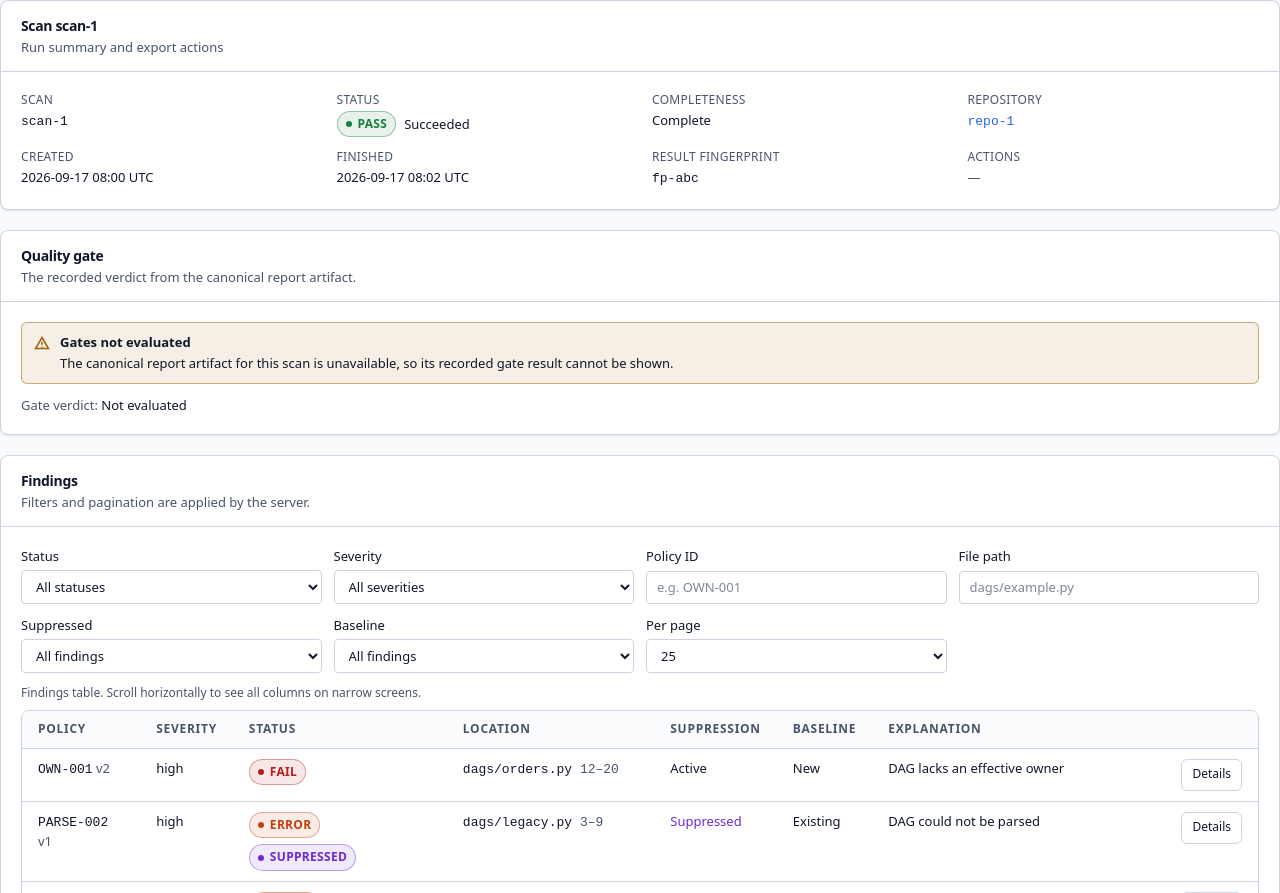
Scenario: ScanPage › keeps normalized findings and shows calm unavailable states when the artifact is pruned
The width and height of the screenshot is (1280, 893).
Expected: the text "Not evaluated" is shown, [101,396,187,414]
Expected: the text "OWN-001" is shown, [38,762,93,777]
Click the button "Details" in the row of "OWN-001" at (1212, 775), box [1181,759,1242,791]
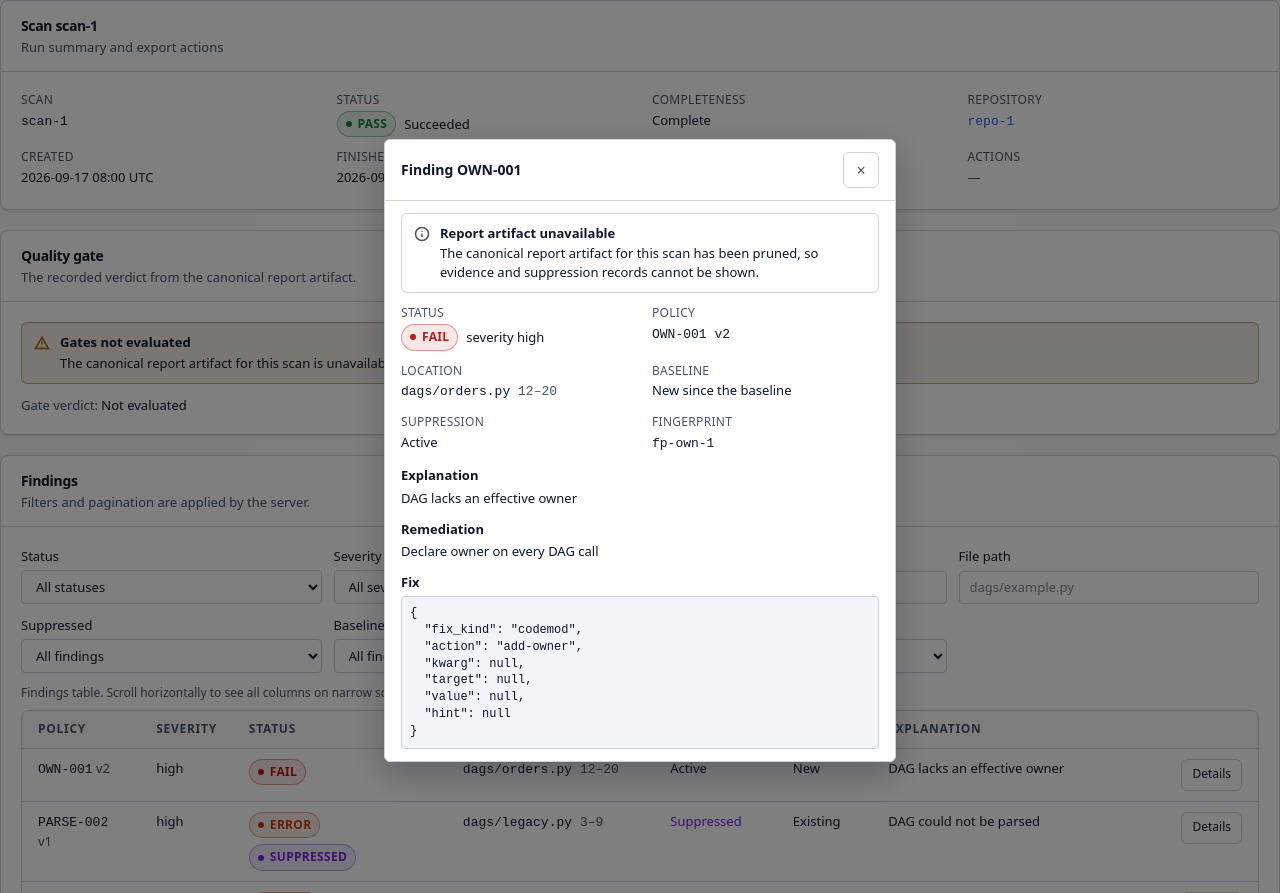
Result: the text "DAG lacks an effective owner" is shown at [401,489,577,507]
Result: the text "Report artifact unavailable" is shown at [440,224,615,242]
Result: the text "Declare owner on every DAG call" is shown at [401,542,598,560]
